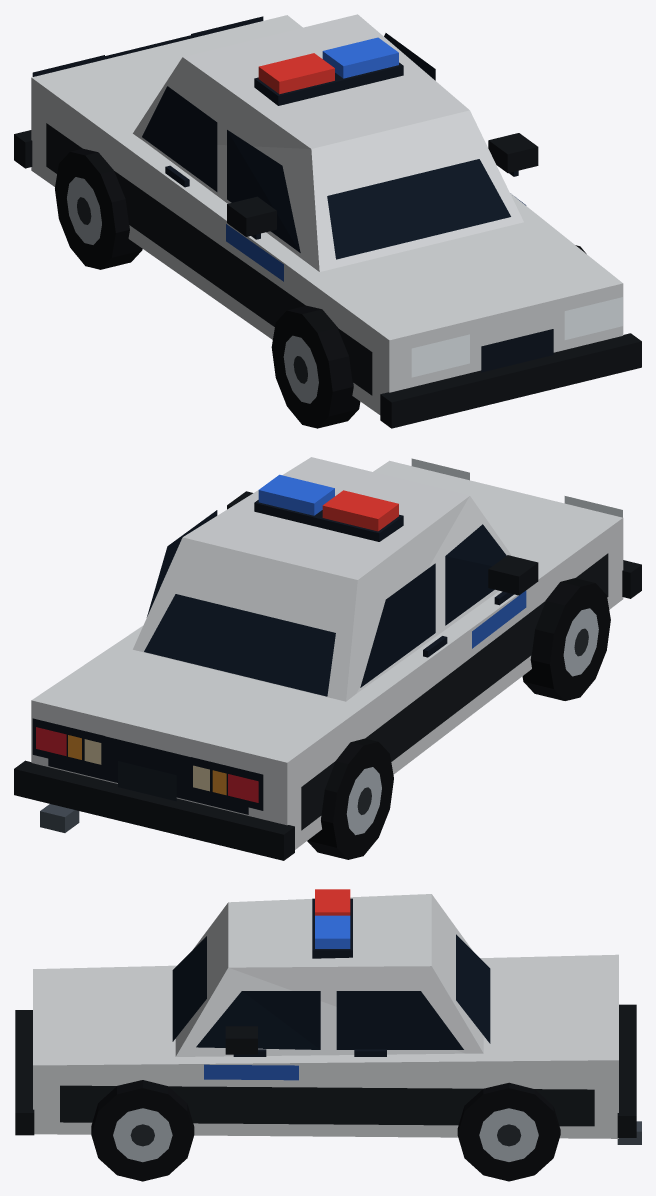
The model's file is police-interceptor-low-poly.obj.
3 views of the same model, one above another, from view 1: azimuth 30°, elevation 25°; view 2: azimuth 150°, elevation 25°; view 3: azimuth 270°, elevation 25° (orthographic). The views are drawn at different scales.
Parts seen in each view (by area): view 1: body-shell, cabin-shell, front-windshield, front-bumper, police-lower-band--1, rear-side-window--1, front-side-window--1, front-wheel--1-cap-a, rear-wheel--1-cap-a, front-wheel--1-tread, siren-lamp-red, rear-wheel--1-tread (+12 smaller); view 2: body-shell, cabin-shell, rear-window, rear-bumper, police-lower-band--1, rear-side-window--1, front-side-window--1, front-wheel--1-cap-a, rear-wheel--1-cap-a, rear-trim, front-wheel--1-tread, siren-lamp-red (+15 smaller); view 3: body-shell, cabin-shell, police-lower-band-1, rear-side-window-1, front-side-window-1, front-wheel-1-cap-b, rear-wheel-1-cap-b, rear-window, rear-bumper, front-windshield, front-bumper, front-wheel-1-hub (+10 smaller).
Boxes of the visible parts, <box> form: body-shell: <box>31,15,623,414</box>; cabin-shell: <box>133,14,523,271</box>; front-windshield: <box>327,159,510,259</box>; front-bumper: <box>380,333,641,428</box>; police-lower-band--1: <box>46,123,372,395</box>; rear-side-window--1: <box>142,86,217,191</box>; front-side-window--1: <box>227,130,300,252</box>; front-wheel--1-cap-a: <box>271,310,332,428</box>; rear-wheel--1-cap-a: <box>55,152,115,269</box>; front-wheel--1-tread: <box>287,305,360,428</box>; siren-lamp-red: <box>258,53,334,94</box>; rear-wheel--1-tread: <box>70,148,142,269</box>; body-shell: <box>31,460,623,849</box>; cabin-shell: <box>133,457,511,701</box>; rear-window: <box>144,594,335,696</box>; rear-bumper: <box>14,760,294,860</box>; police-lower-band--1: <box>301,553,608,830</box>; rear-side-window--1: <box>360,563,435,687</box>; front-side-window--1: <box>445,524,506,625</box>; front-wheel--1-cap-a: <box>550,583,610,700</box>; rear-wheel--1-cap-a: <box>333,742,393,859</box>; rear-trim: <box>48,736,248,814</box>; front-wheel--1-tread: <box>522,578,594,700</box>; siren-lamp-red: <box>322,490,398,531</box>; body-shell: <box>33,954,618,1138</box>; cabin-shell: <box>175,894,483,1056</box>; police-lower-band-1: <box>60,1085,594,1126</box>; rear-side-window-1: <box>336,991,463,1049</box>; front-side-window-1: <box>196,991,320,1049</box>; front-wheel-1-cap-b: <box>91,1088,194,1181</box>; rear-wheel-1-cap-b: <box>457,1088,560,1181</box>; rear-window: <box>456,934,490,1043</box>; rear-bumper: <box>617,1004,636,1137</box>; front-windshield: <box>172,936,206,1041</box>; front-bumper: <box>15,1010,34,1135</box>; front-wheel-1-hub: <box>113,1108,172,1162</box>.
Size of the model in its own units: 2.1 by 1.71 by 4.63.
